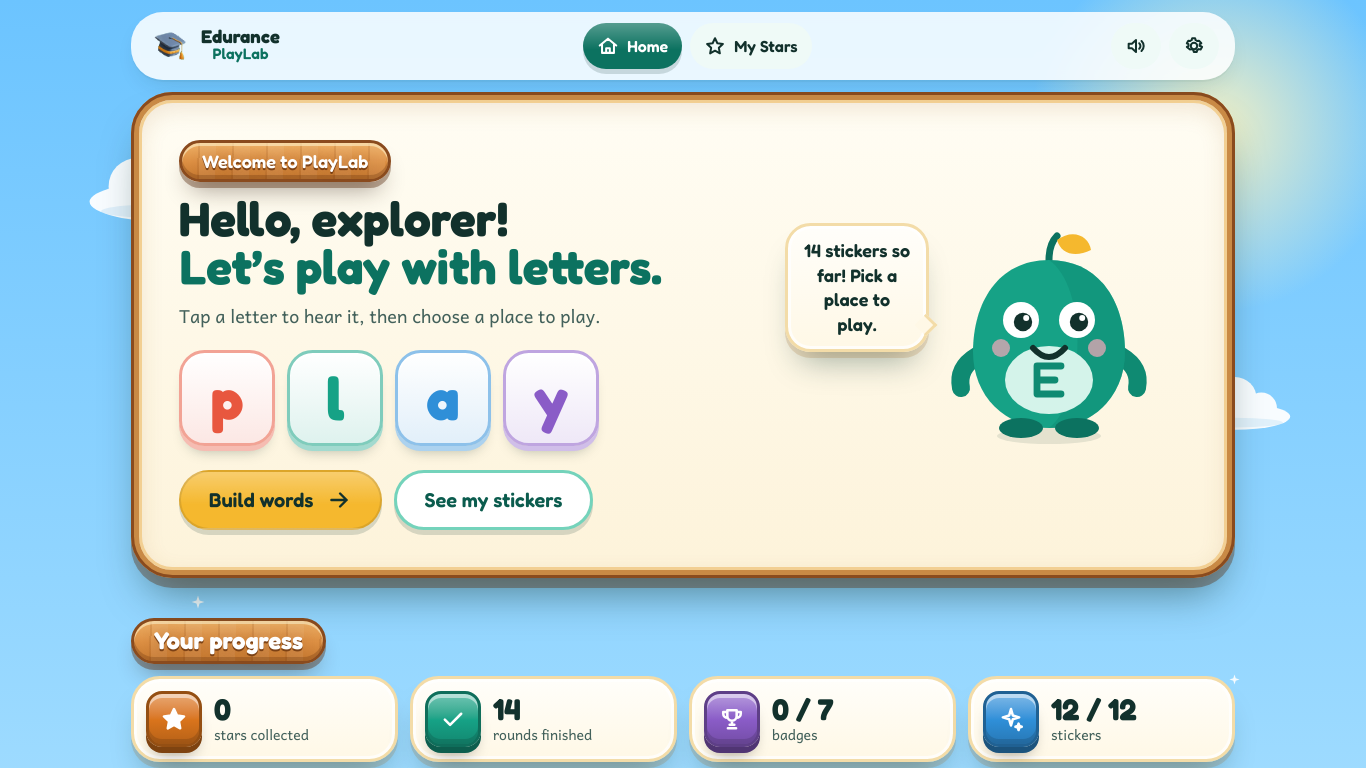
Test: sticker book › a full book says so, and each round after it adds a repeat
This screenshot has width=1366, height=768.
Click the button "My Stars": (751,46) [690, 23, 812, 69]
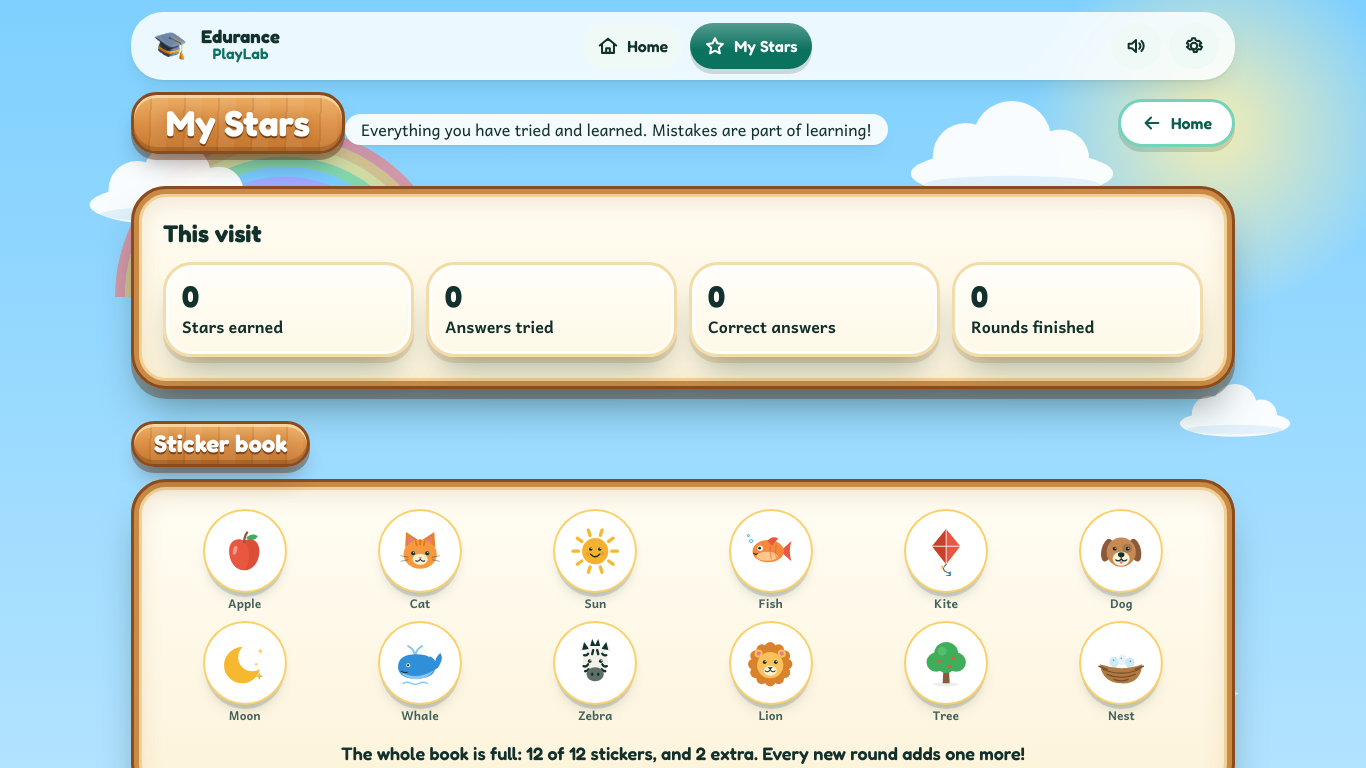
Expected: the text with test id "sticker-count" shows "The whole book is full: 12 of 12 stickers, and 2 extra.", [341, 742, 1025, 764]
